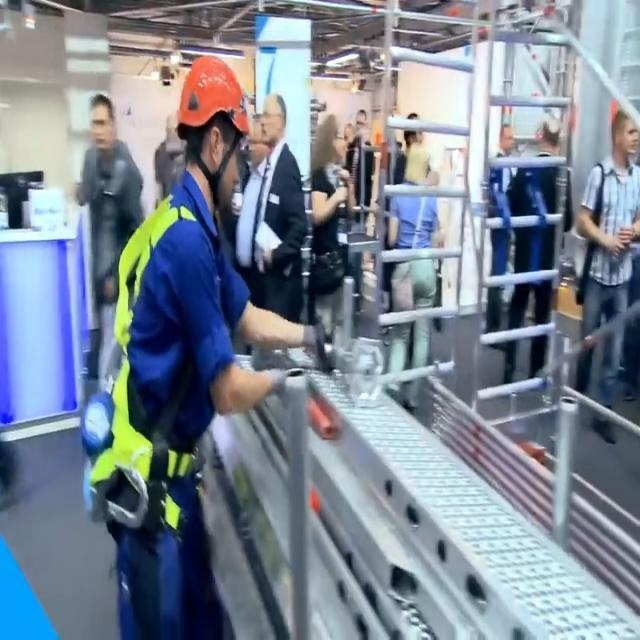Arnes_seguridad: (87, 175, 215, 537)
